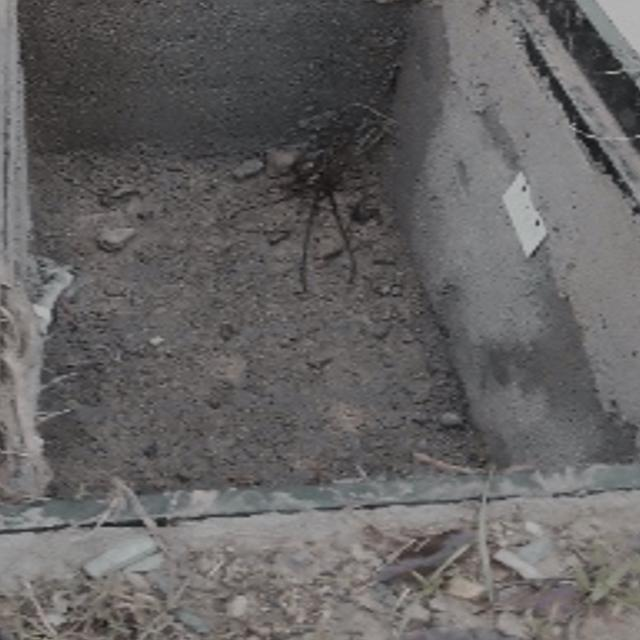lose: (0, 0, 640, 536)
